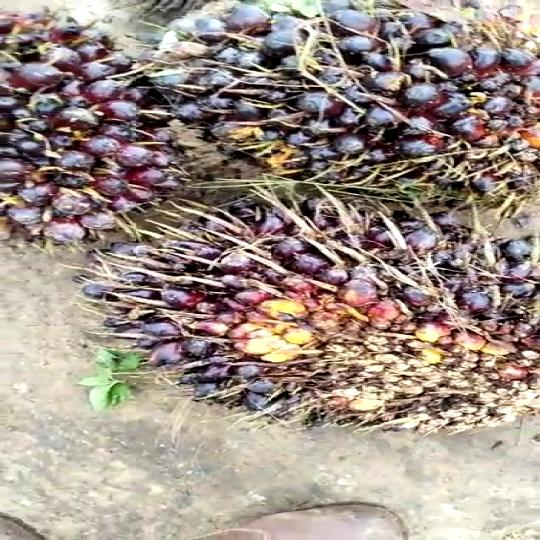kurang masak: (81, 196, 540, 446), (144, 0, 540, 205), (159, 0, 534, 182), (0, 7, 183, 241), (0, 7, 201, 220)
